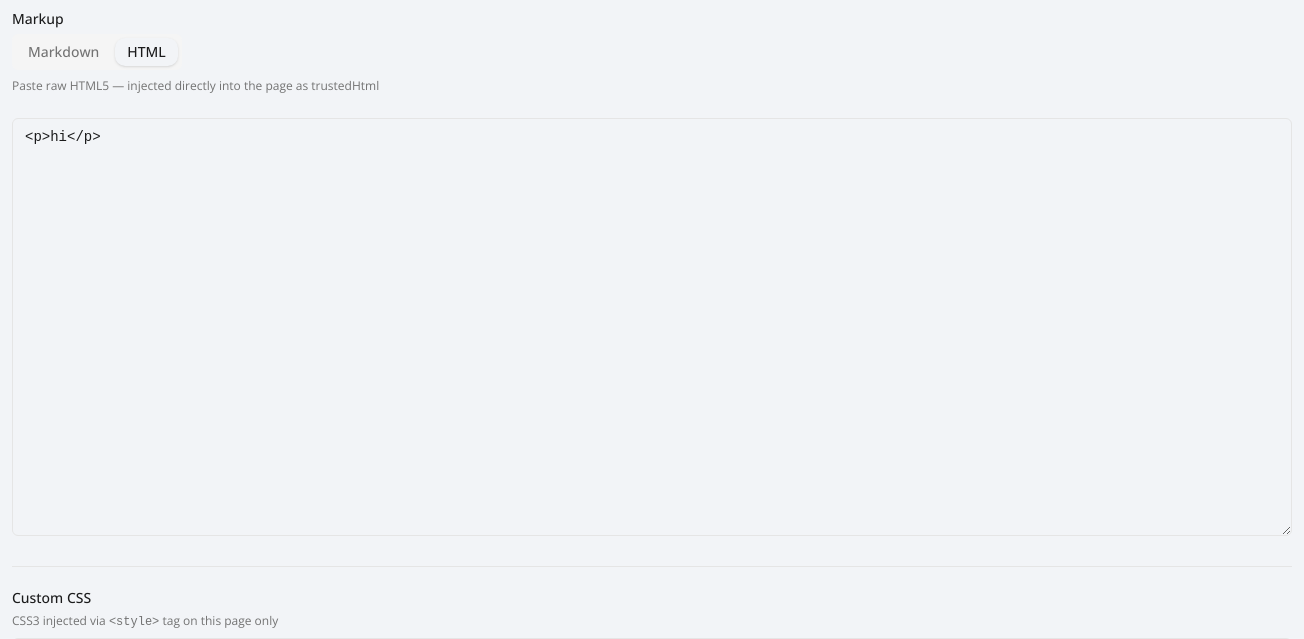
Scenario: ContentPanel › switches back to Markdown mode when Markdown button is clicked
Click the button "Markdown" at (64, 52), box [16,38,111,66]
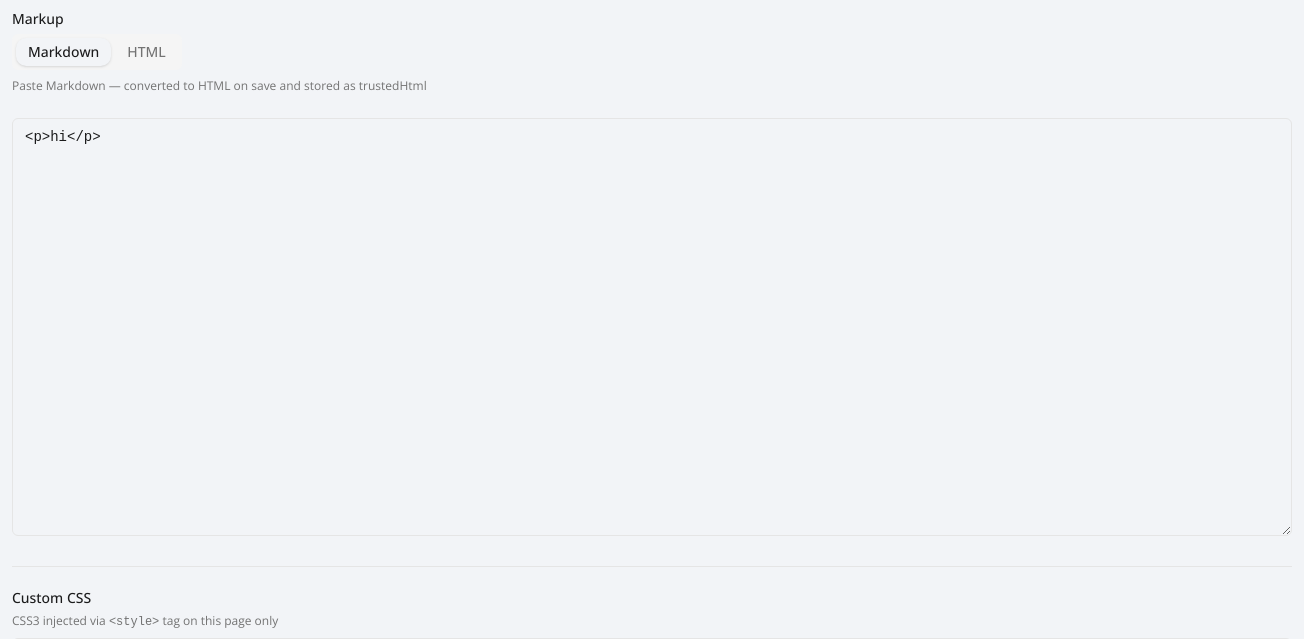
Now the text "Paste Markdown" is shown, box [12,77,427,94]
